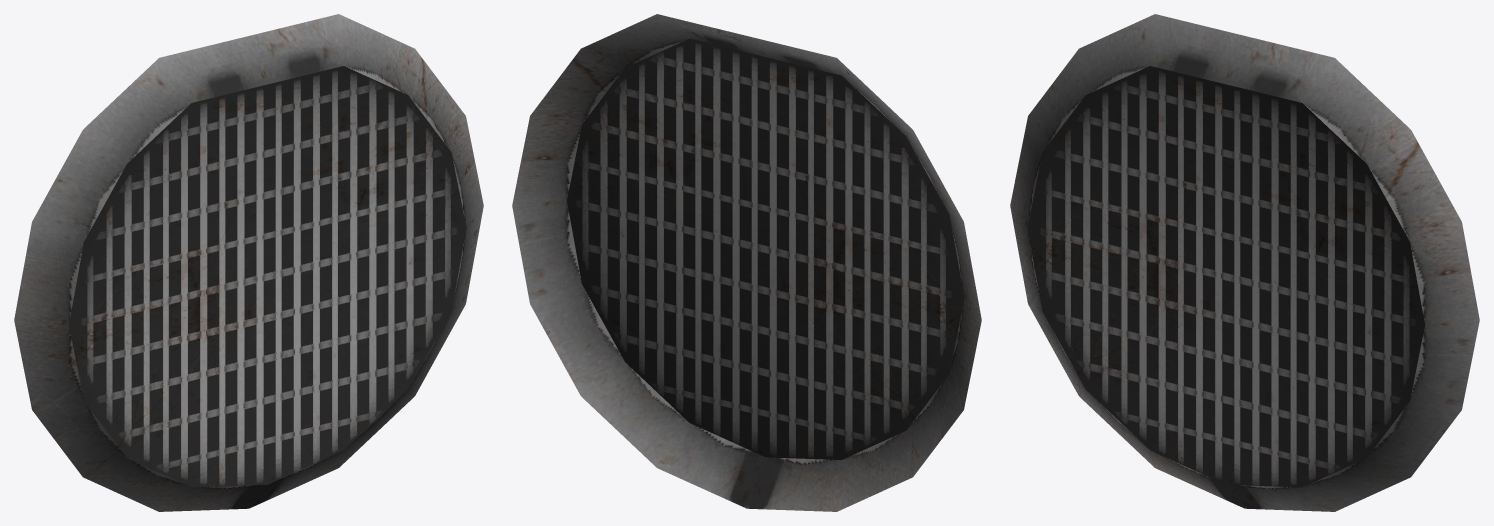
Rendered from p_rus_vent_ext_round_LOD3.obj.
The picture shows the model from 3 angles, left to right: view 1: azimuth 30°, elevation 25°; view 2: azimuth 150°, elevation 25°; view 3: azimuth 330°, elevation 25°; orthographic projection.
Parts seen in each view (by area): view 1: mtl_p_rus_vent_ext_round; view 2: mtl_p_rus_vent_ext_round; view 3: mtl_p_rus_vent_ext_round.
Boxes of the visible parts, <box> form: mtl_p_rus_vent_ext_round: <box>14,14,483,511</box>; mtl_p_rus_vent_ext_round: <box>512,14,981,511</box>; mtl_p_rus_vent_ext_round: <box>1010,14,1479,511</box>.
Size of the model in its own units: 162 by 156 by 11.18.
